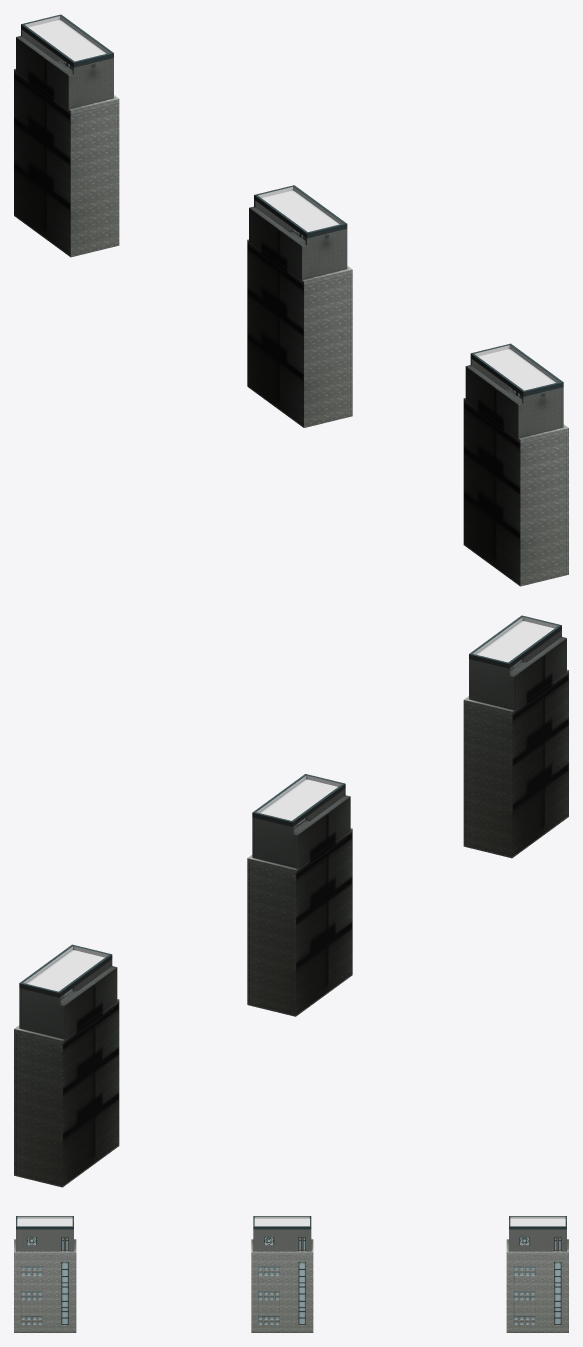
File: teaching_B4T.glb
3 views of the same model, one above another, from view 1: azimuth 30°, elevation 25°; view 2: azimuth 150°, elevation 25°; view 3: azimuth 270°, elevation 25° (orthographic). The views are drawn at different scales.
Parts seen in each view (by area): view 1: 教学楼B_4; view 2: 教学楼B_4; view 3: 教学楼B_4.
Boxes of the visible parts, box(x1,y1,x2,y2) form: 教学楼B_4: box(14, 14, 568, 586); 教学楼B_4: box(14, 615, 568, 1187); 教学楼B_4: box(14, 1216, 568, 1332).
Size of the model in its own units: 4.4 by 16.6 by 79.42.
1 material, 1 textured.
